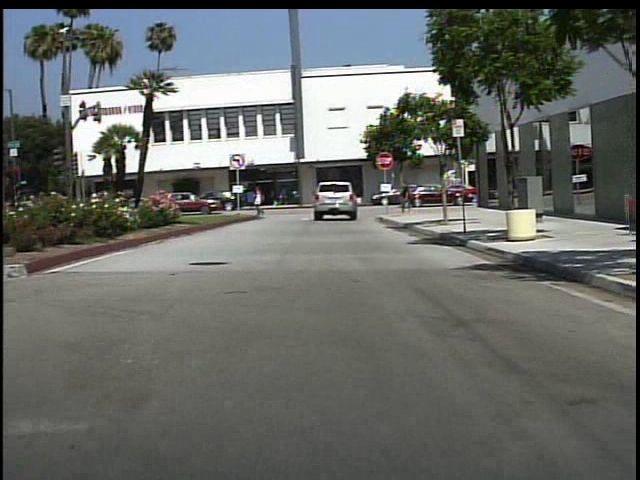person: (253, 181, 275, 220), (396, 179, 418, 215), (287, 182, 288, 208)
